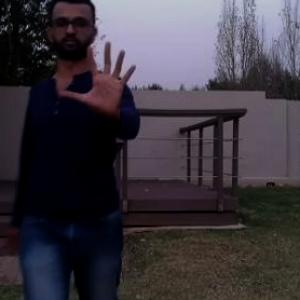follow_hand: (56, 36, 141, 123)
